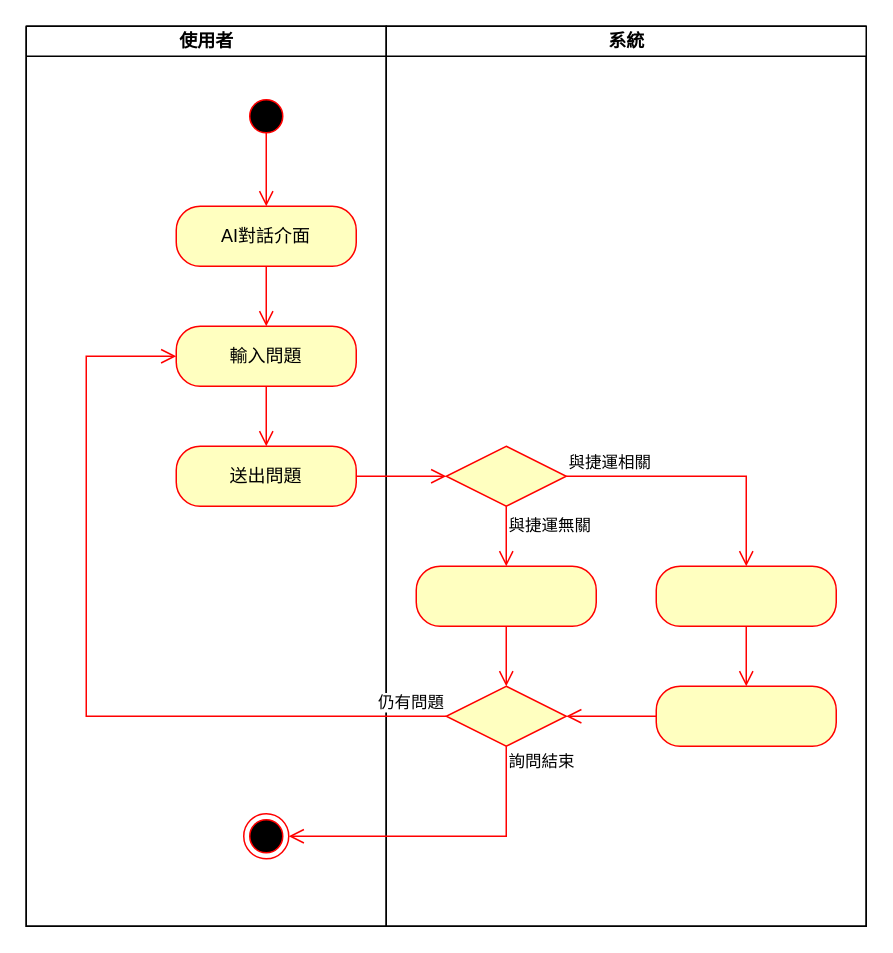
Some shapes in this 893 by 953 pixel diagram are drawn without their labels. The centre of each missing label's shape, as x and y in pixels:
"生成回答" belongs at point (745, 595).
"顯示回答" belongs at point (745, 715).
"顯示無法回答" belongs at point (505, 595).
